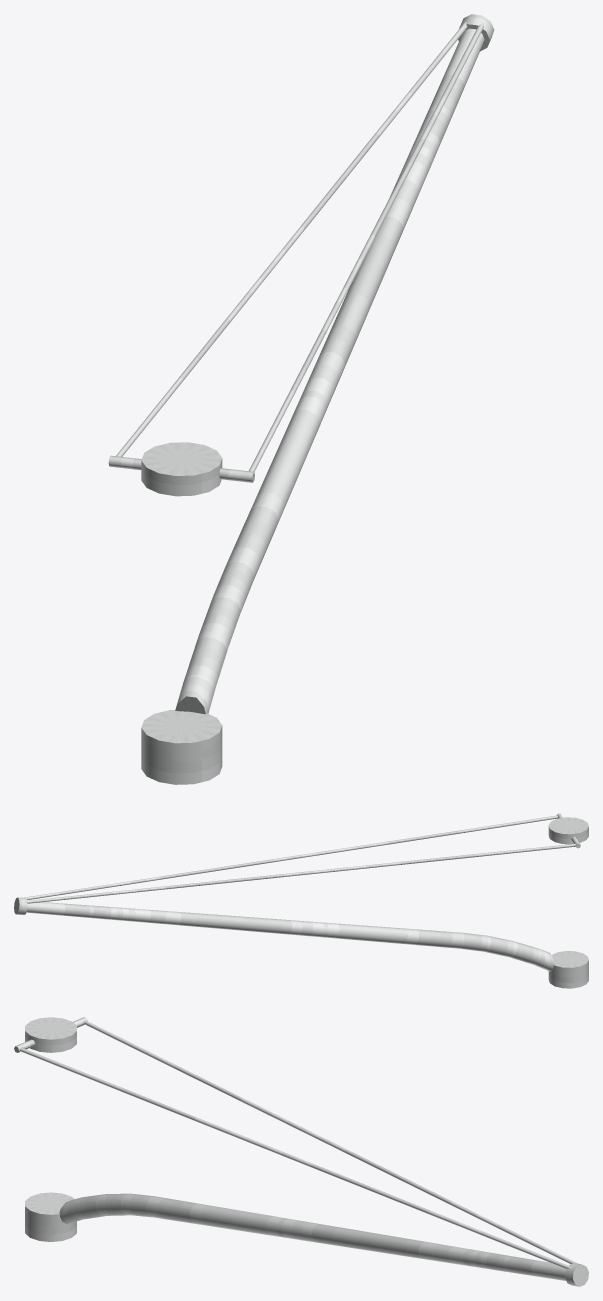
File: nycsignalarm_diagonal8_inv.obj
3 views of the same model, one above another, from view 1: azimuth 30°, elevation 25°; view 2: azimuth 150°, elevation 25°; view 3: azimuth 270°, elevation 25° (orthographic). The views are drawn at different scales.
Parts seen in each view (by area): view 1: nycsignalarm_diagonal8_inv; view 2: nycsignalarm_diagonal8_inv; view 3: nycsignalarm_diagonal8_inv.
Boxes of the visible parts, box(x1,y1,x2,y2) form: nycsignalarm_diagonal8_inv: box(108, 14, 494, 784); nycsignalarm_diagonal8_inv: box(14, 813, 588, 988); nycsignalarm_diagonal8_inv: box(14, 1017, 588, 1286).
Size of the model in its own units: 1 by 0.3885 by 1.
